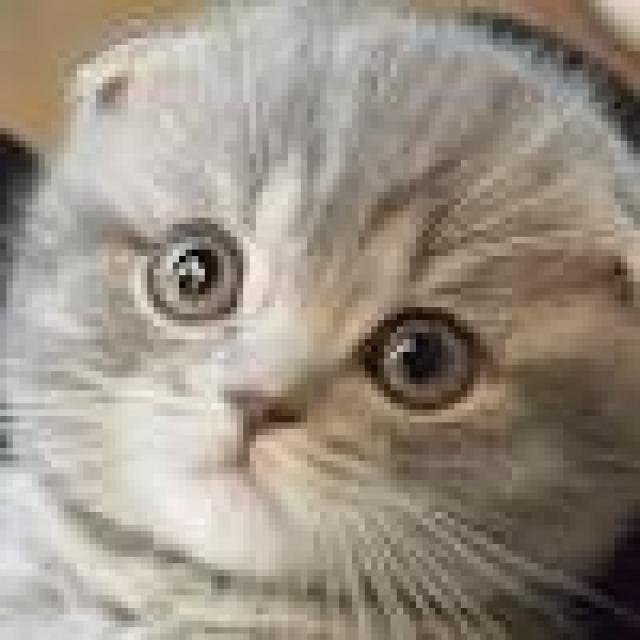cat-face: (34, 28, 640, 602)
